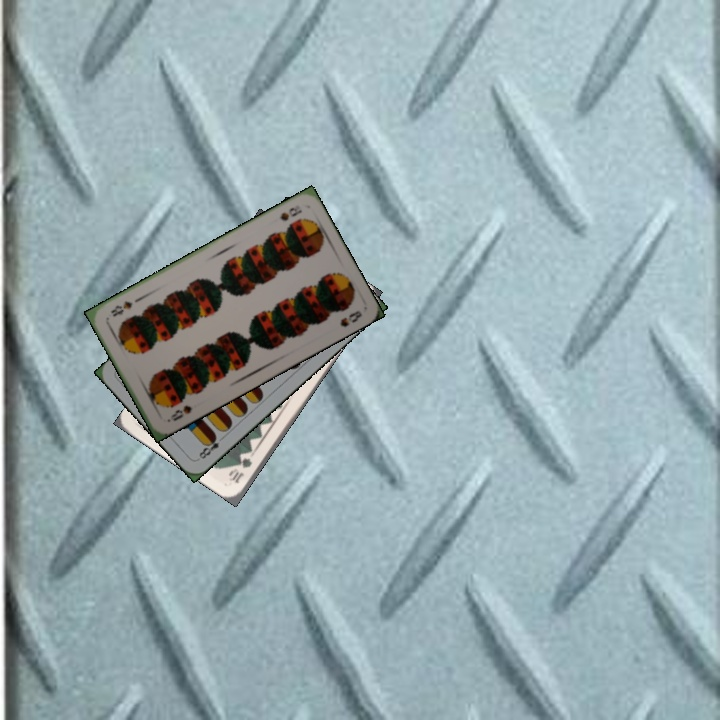E8: (194, 431, 228, 462)
G10: (226, 453, 254, 486)
S8: (163, 401, 194, 425), (276, 203, 304, 224)
